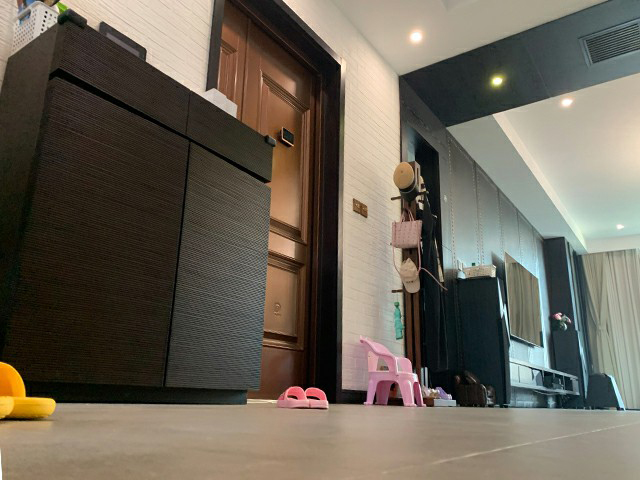cabinet: (1, 9, 277, 406), (508, 357, 581, 408)
curtain: (578, 246, 640, 410)
slippers: (1, 361, 58, 423), (275, 382, 310, 410), (304, 386, 328, 409)
stool: (359, 335, 427, 408)
